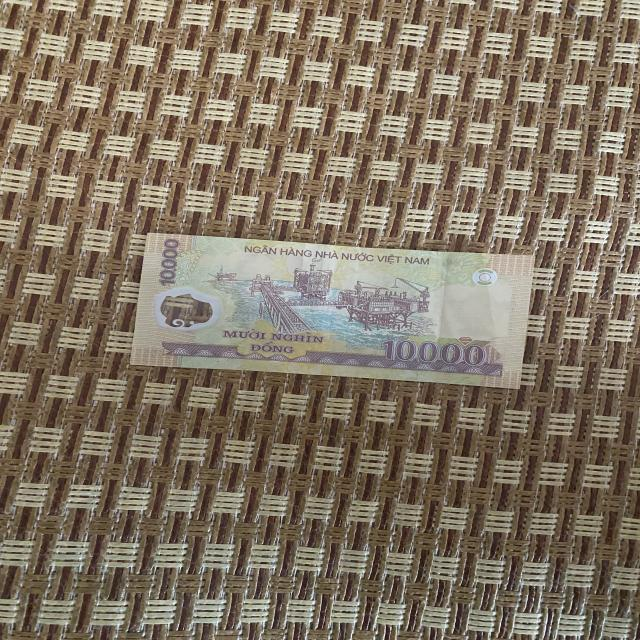10 000 VND: (130, 230, 538, 390)
